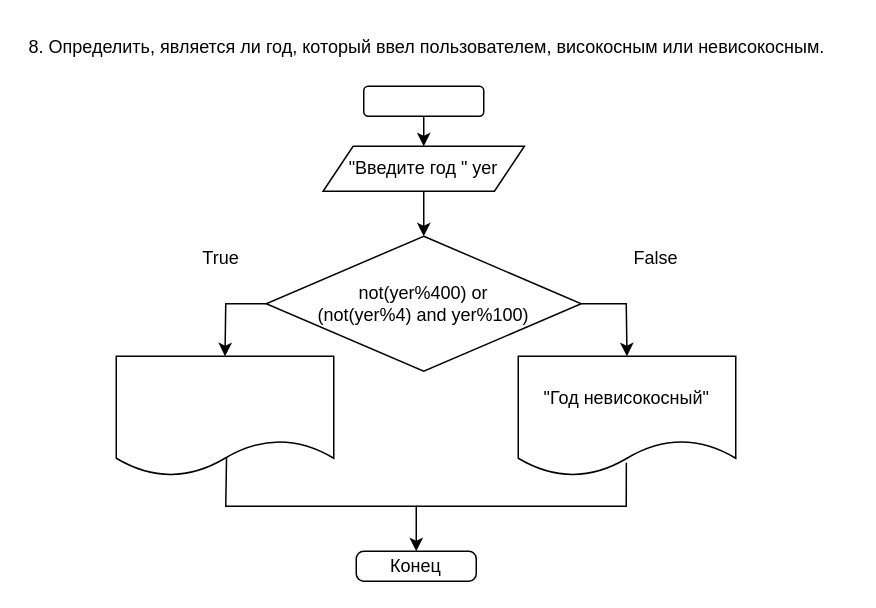
The diagram is 876 pixels wide and 608 high, and some of its shapes have lost their labels. Here are the shapes that lost their labels. From the top down, the box of each, then its label:
(362, 85, 484, 116): Начало
(115, 355, 334, 476): "Год високосный"
